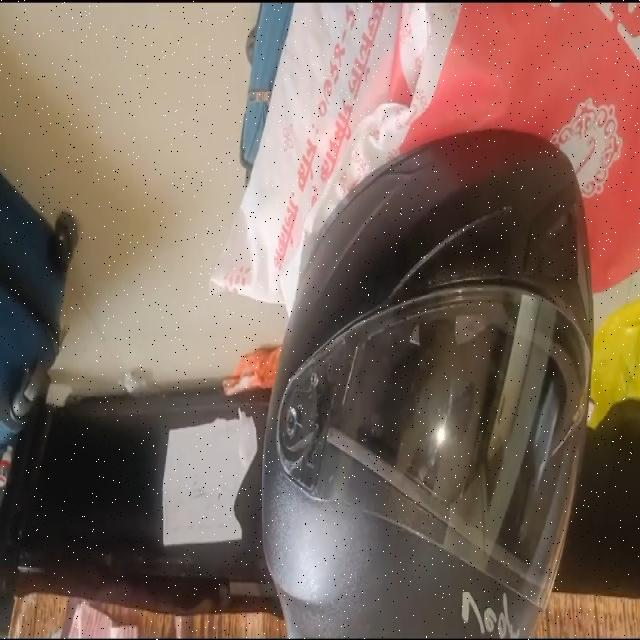Helmet: (264, 132, 592, 638)
